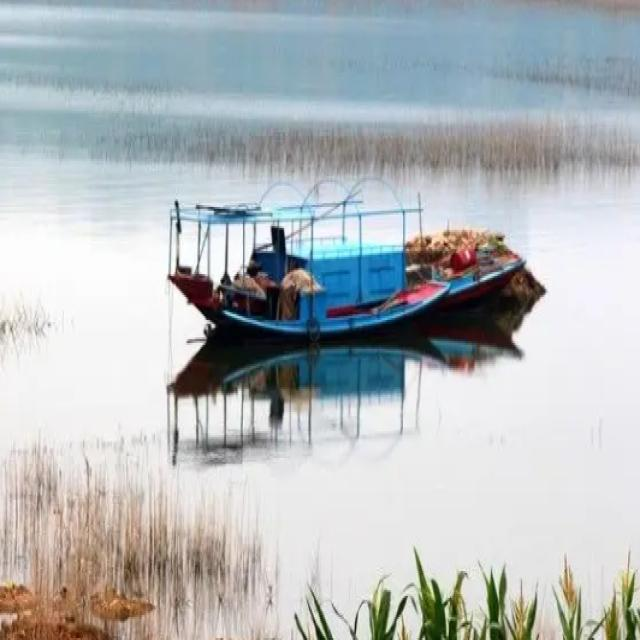fishing boat: (164, 179, 532, 342)
